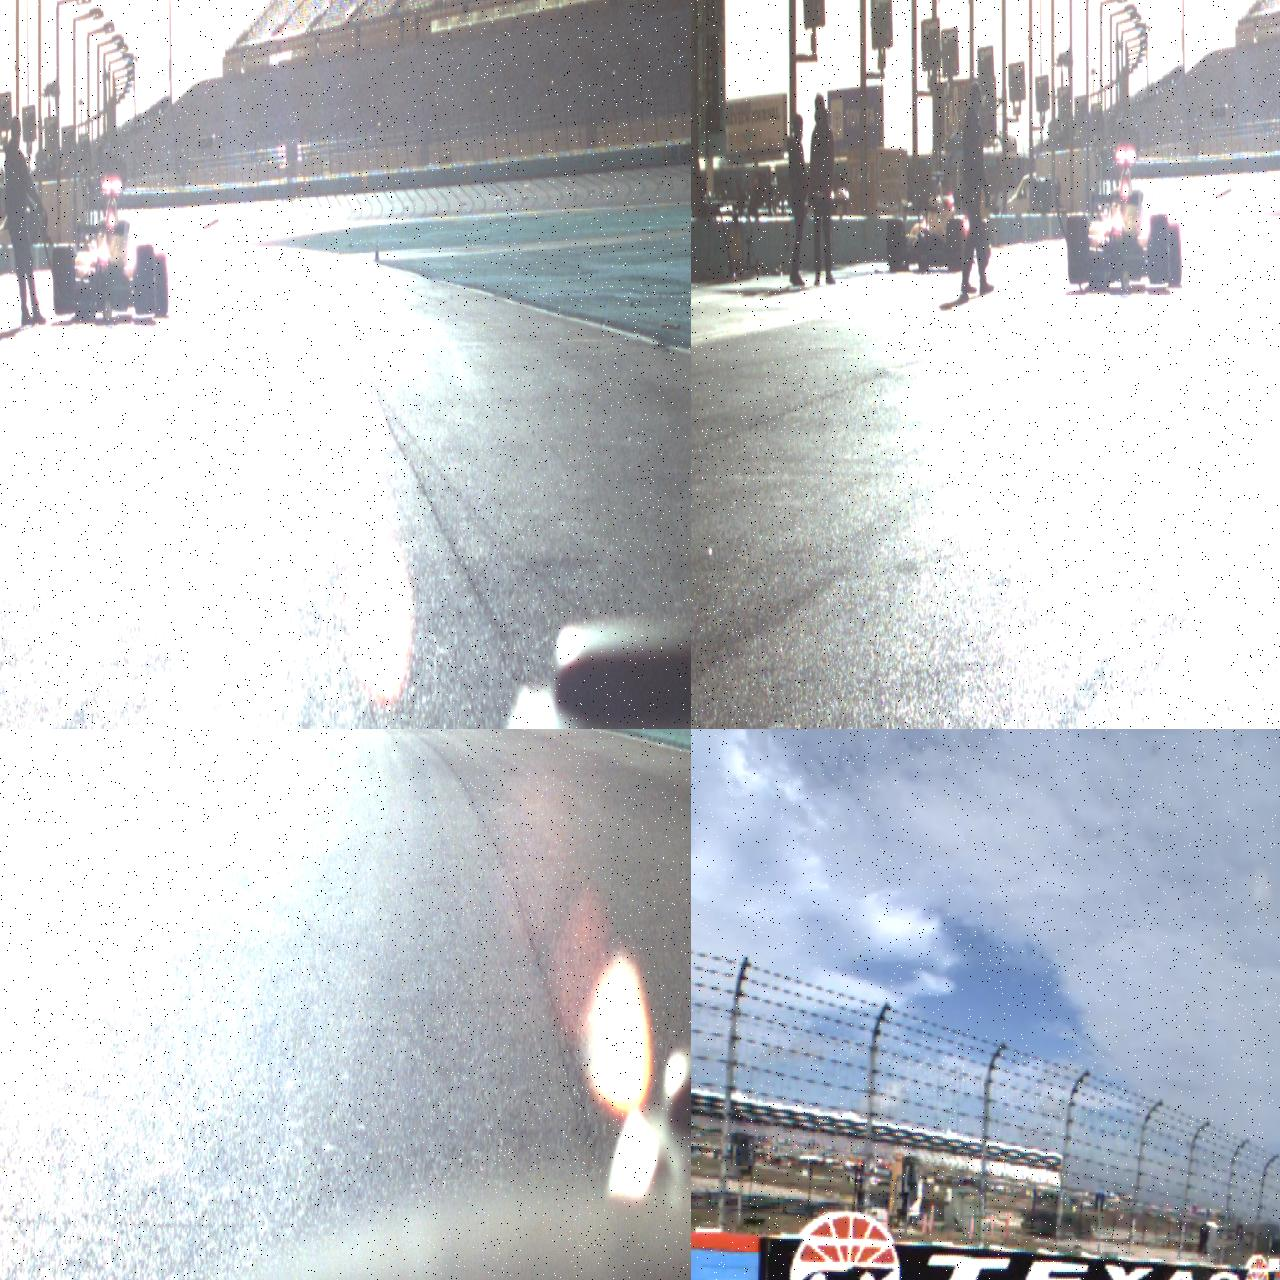AV: (1067, 148, 1183, 288), (53, 179, 169, 316), (887, 172, 990, 272)
Wheel: (54, 244, 77, 314), (1068, 215, 1089, 284), (136, 245, 155, 315), (1150, 215, 1169, 284), (946, 218, 967, 272), (151, 254, 168, 316), (887, 218, 906, 272), (1167, 223, 1182, 286)
